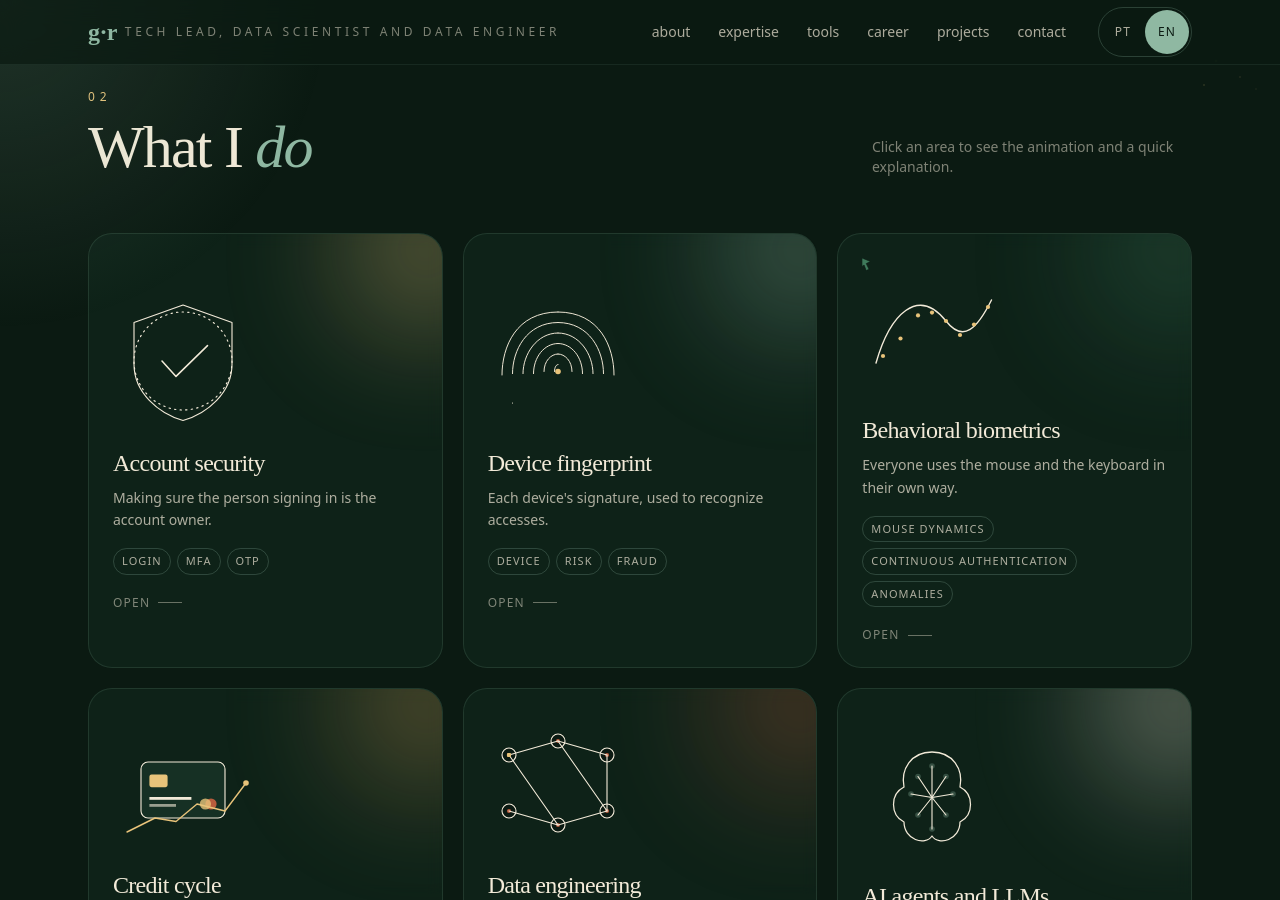
Test case: App em inglês, seção por seção › O que eu faço: cartões em inglês e o modal abre e fecha com rótulos em inglês
The image size is (1280, 900).
(page scrolled)
Expected: the text "Click an area to see the animation and a quick explanation." is shown, [872,137,1192,177]
Expected: the heading "Account security" is shown, [113,450,265,476]
Click the button "Behavioral biometrics": x=1015, y=450 [837,233,1192,668]
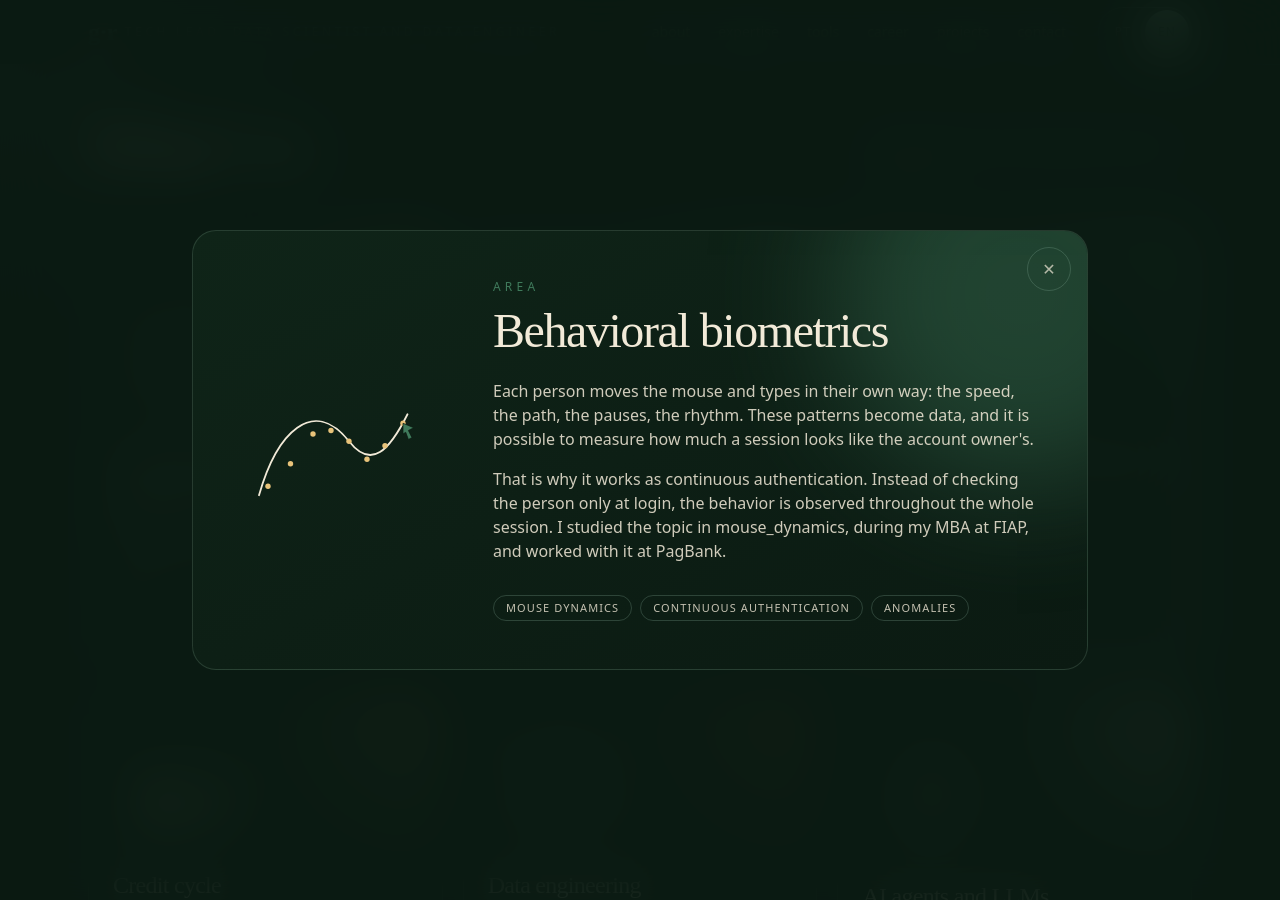
Now the text "area" is shown, box [493,278,539,295]
Now the text "Each person moves the mouse and types in their own way: the speed, the path, the pauses, the rhythm. These patterns beco" is shown, box [493,380,1034,450]
Now the text "That is why it works as continuous authentication. Instead of checking the person only at login, the behavior is observe" is shown, box [493,468,1034,562]
Click the button named "close": x=1049, y=269 [1027,247,1071,291]
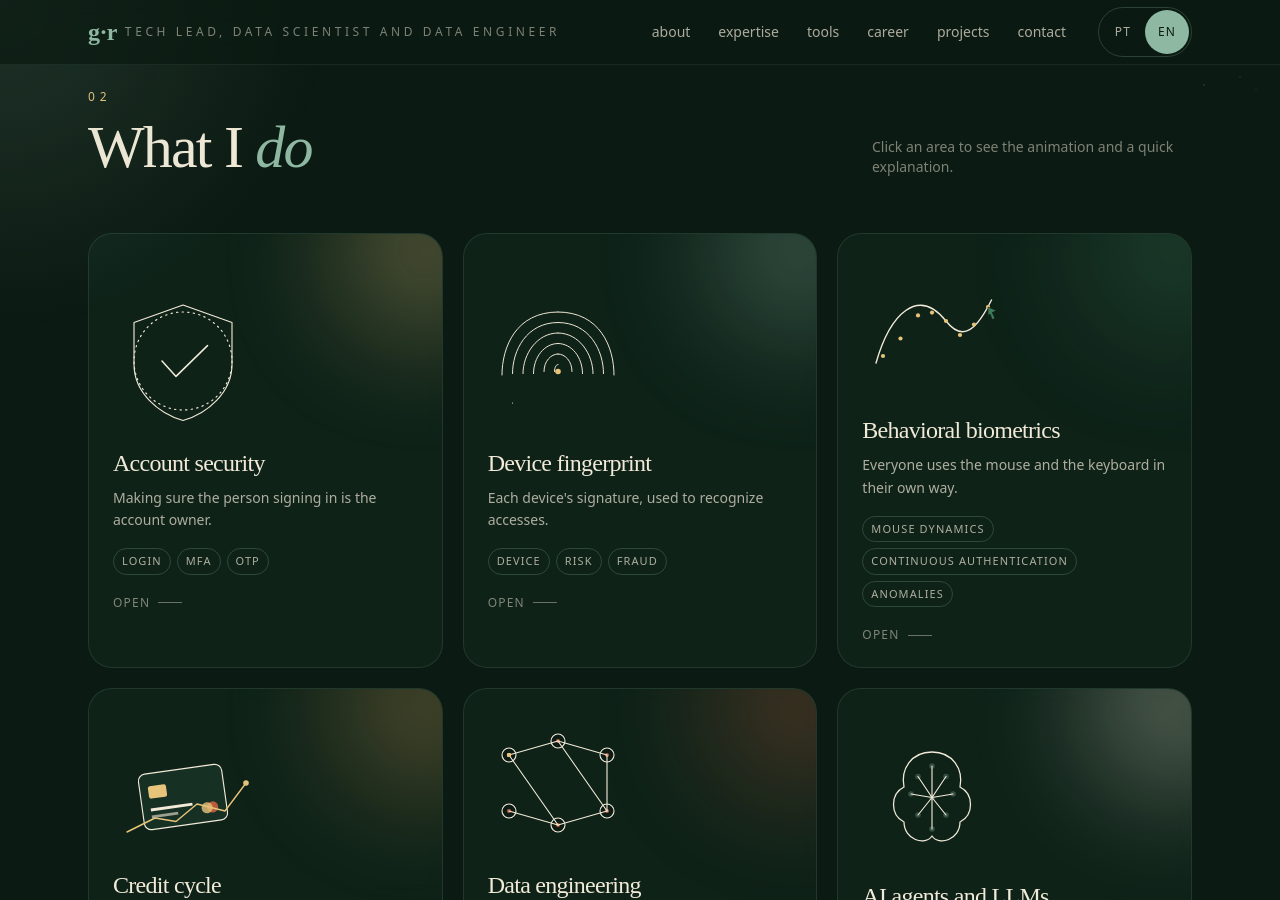
Now the dialog is gone
